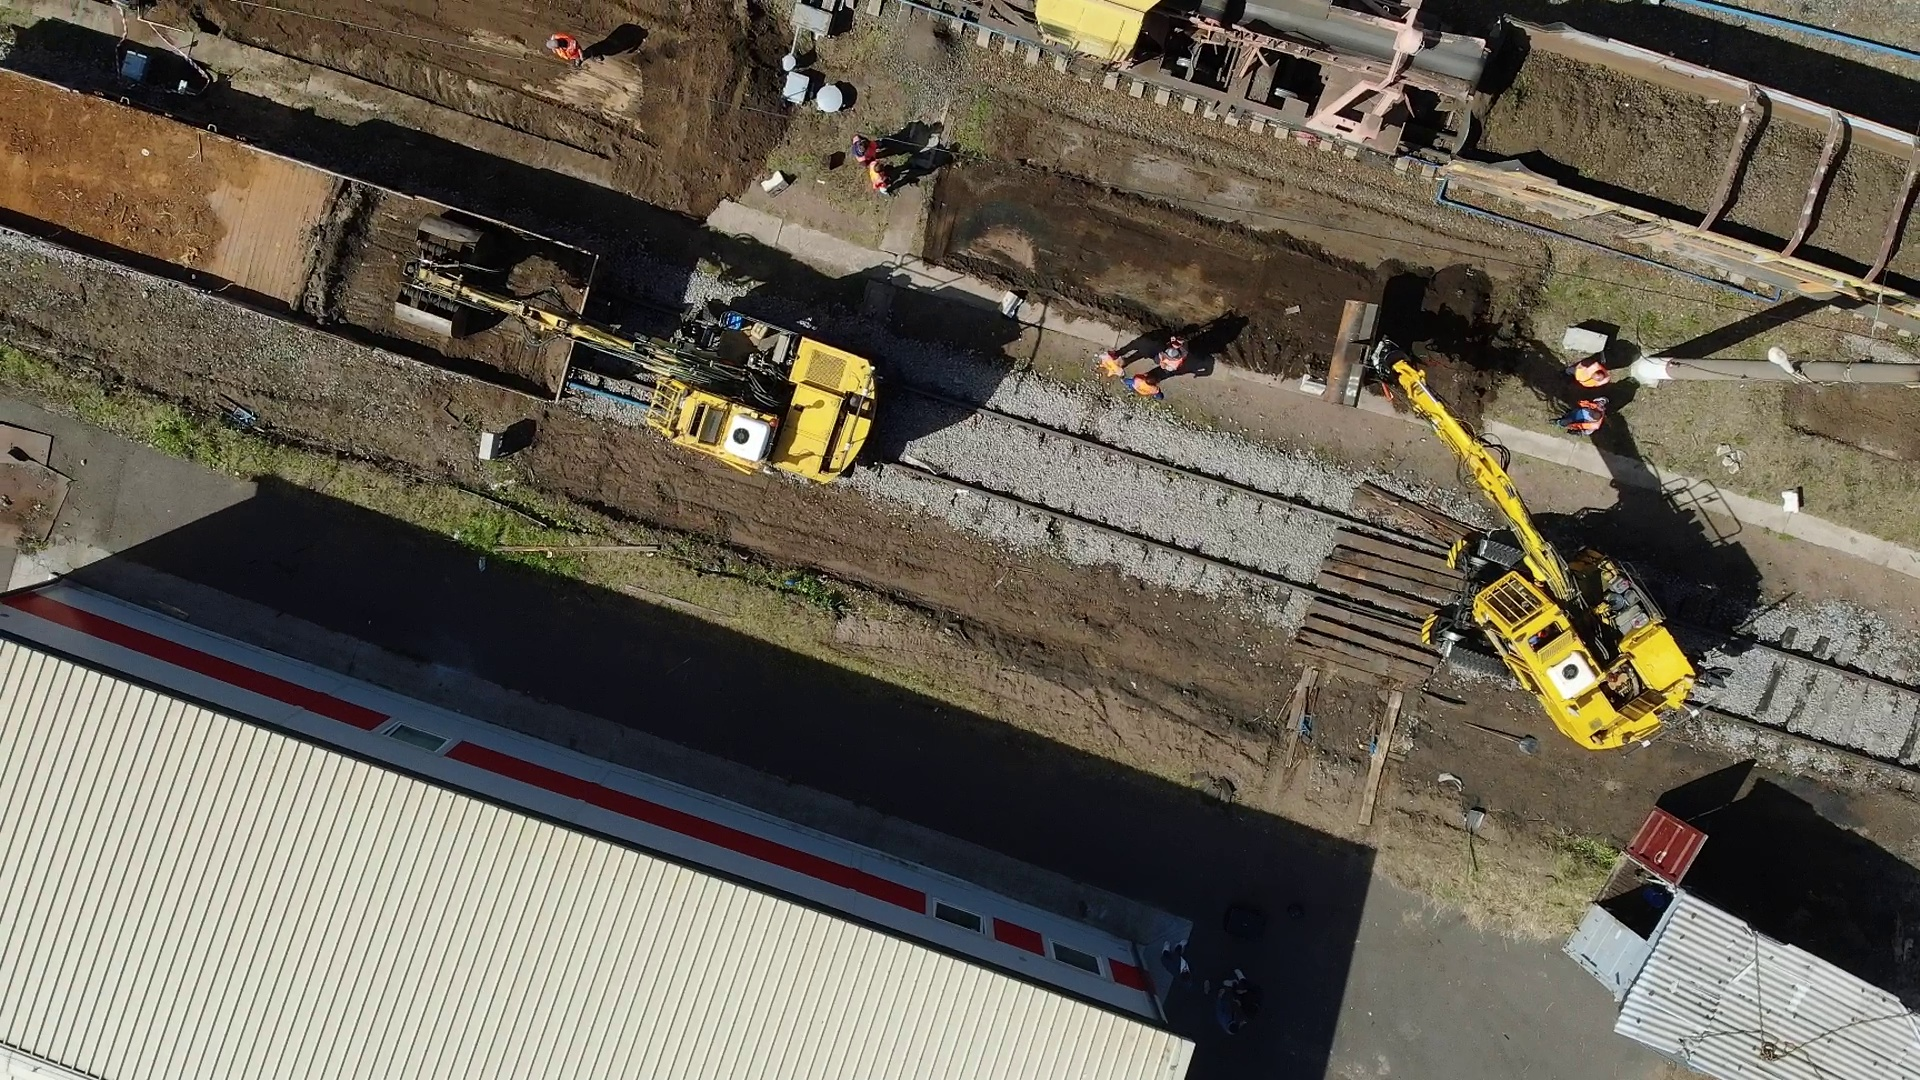kjtv: (1424, 512, 1688, 754), (648, 309, 886, 493)
